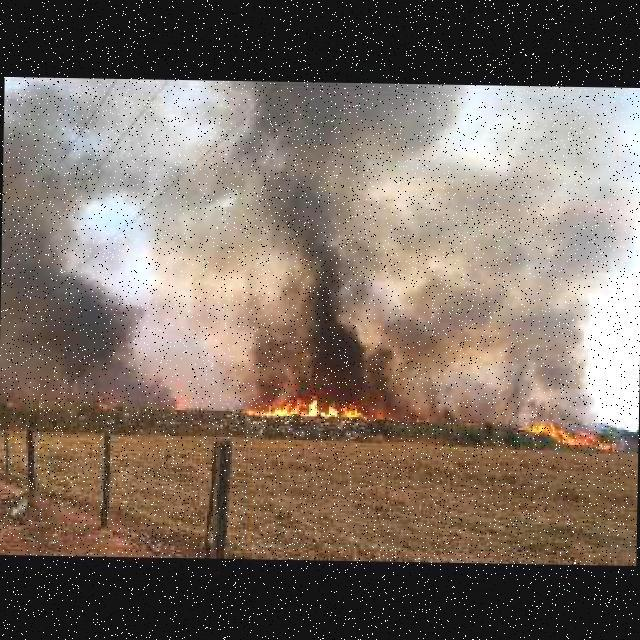Fire: (246, 389, 361, 421), (526, 420, 616, 450), (97, 392, 105, 406), (175, 400, 183, 408)
Smoke: (211, 78, 457, 402), (1, 75, 220, 393), (452, 82, 640, 421)
